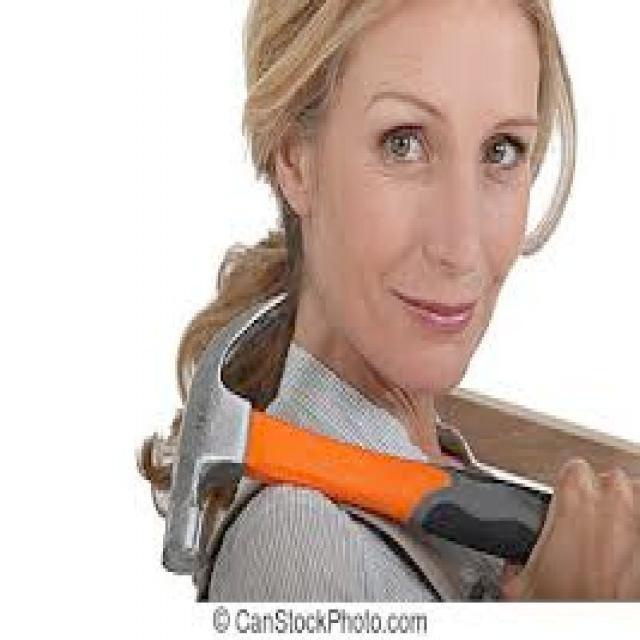hammer: (151, 282, 640, 610)
